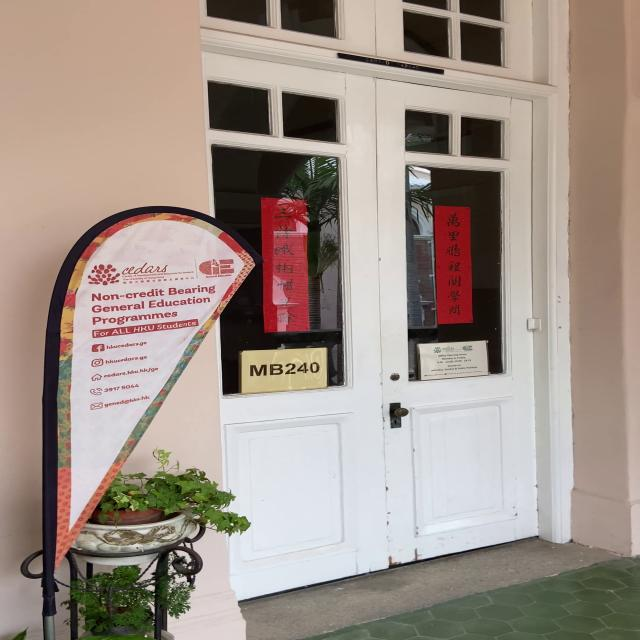room240: (242, 352, 324, 386)
